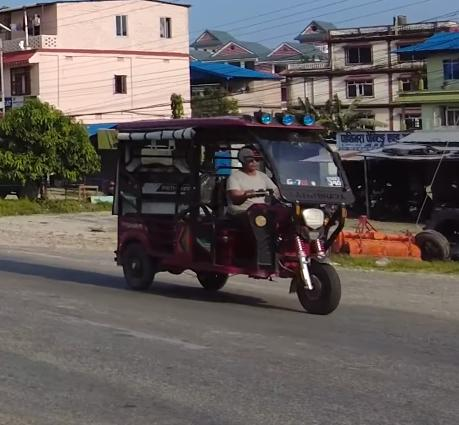e-rickshaw: (111, 115, 359, 315)
